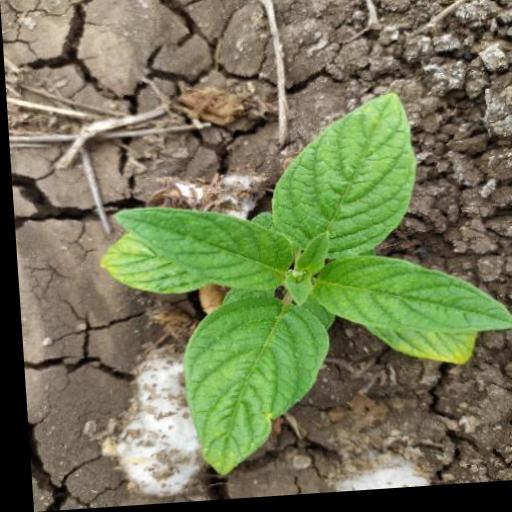crop: (77, 90, 512, 483)
